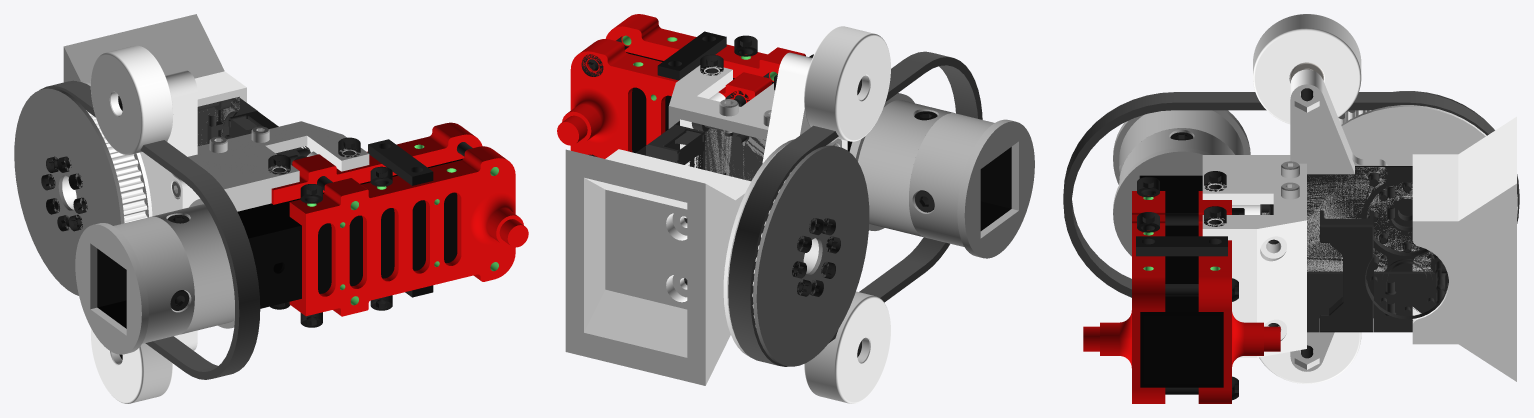
File: male_head.dae
3 views of the same model, side by side, from view 1: azimuth 30°, elevation 25°; view 2: azimuth 150°, elevation 25°; view 3: azimuth 270°, elevation 25° (orthographic). The views are drawn at different scales.
Visible parts, largest first — view 1: node50, node43, node37, node41, node39, node48, node38, node45, node42, node46, node52, node47 (+4 smaller); view 2: node38, node43, node41, node39, node52, node48, node42, node47, node45, node34, node50, node37 (+5 smaller); view 3: node38, node34, node45, node37, node46, node39, node48, node44, node50, node52, node42, node41 (+9 smaller).
Part boxes in pixels (x1,y1,x2,y2): node50: (289, 146, 528, 316); node43: (14, 88, 124, 295); node37: (97, 158, 462, 328); node41: (75, 216, 194, 354); node39: (40, 80, 260, 379); node48: (90, 45, 173, 154); node38: (63, 14, 246, 136); node45: (188, 121, 369, 211); node42: (152, 198, 234, 334); node46: (140, 70, 197, 350); node52: (271, 122, 482, 204); node47: (90, 328, 173, 403); node38: (565, 149, 750, 385); node43: (753, 145, 869, 366); node41: (909, 113, 1034, 258); node39: (728, 51, 982, 366); node52: (557, 39, 771, 158); node48: (804, 26, 890, 141); node42: (849, 93, 953, 236); node47: (804, 291, 890, 403); node45: (668, 65, 847, 218); node34: (636, 121, 765, 284); node50: (605, 14, 805, 81); node37: (626, 52, 1011, 230); node38: (1412, 116, 1516, 381); node34: (1260, 166, 1448, 332); node45: (1202, 155, 1306, 357); node37: (1140, 175, 1223, 387); node46: (1262, 69, 1387, 371); node39: (1063, 92, 1519, 297); node48: (1253, 14, 1361, 123); node44: (1338, 105, 1517, 251); node50: (1083, 191, 1165, 403); node52: (1198, 191, 1280, 403); node42: (1113, 128, 1234, 256); node41: (1113, 110, 1250, 184).
Bounding box in the file's own units: 0.1095 × 0.094 × 0.1093.
